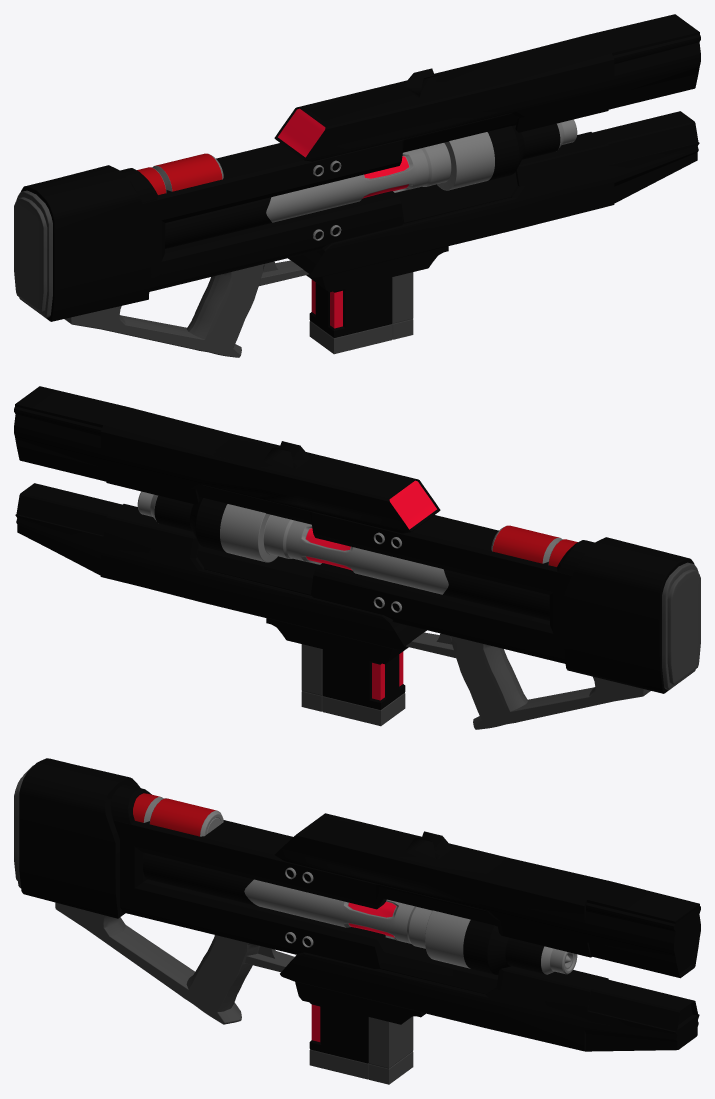
File: Sid Laser Gun.fbx
The picture shows the model from 3 angles, top to bottom: view 1: azimuth 30°, elevation 25°; view 2: azimuth 150°, elevation 25°; view 3: azimuth 330°, elevation 25°; orthographic projection.
Parts seen in each view (by area): view 1: LaserGun; view 2: LaserGun; view 3: LaserGun.
Boxes of the visible parts, x1=… form: LaserGun: x1=14, y1=14, x2=700, y2=357; LaserGun: x1=14, y1=386, x2=700, y2=729; LaserGun: x1=14, y1=758, x2=700, y2=1084.
Bounding box in the file's own units: 1272 × 452 × 119.
